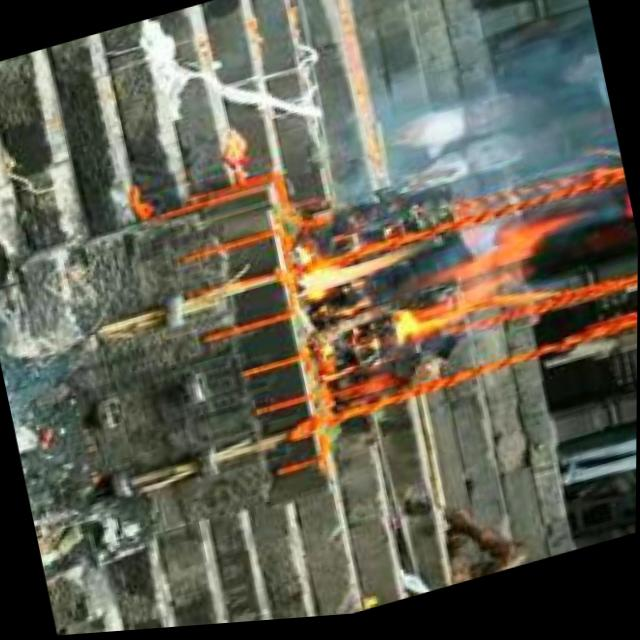Fire: (288, 197, 573, 380)
